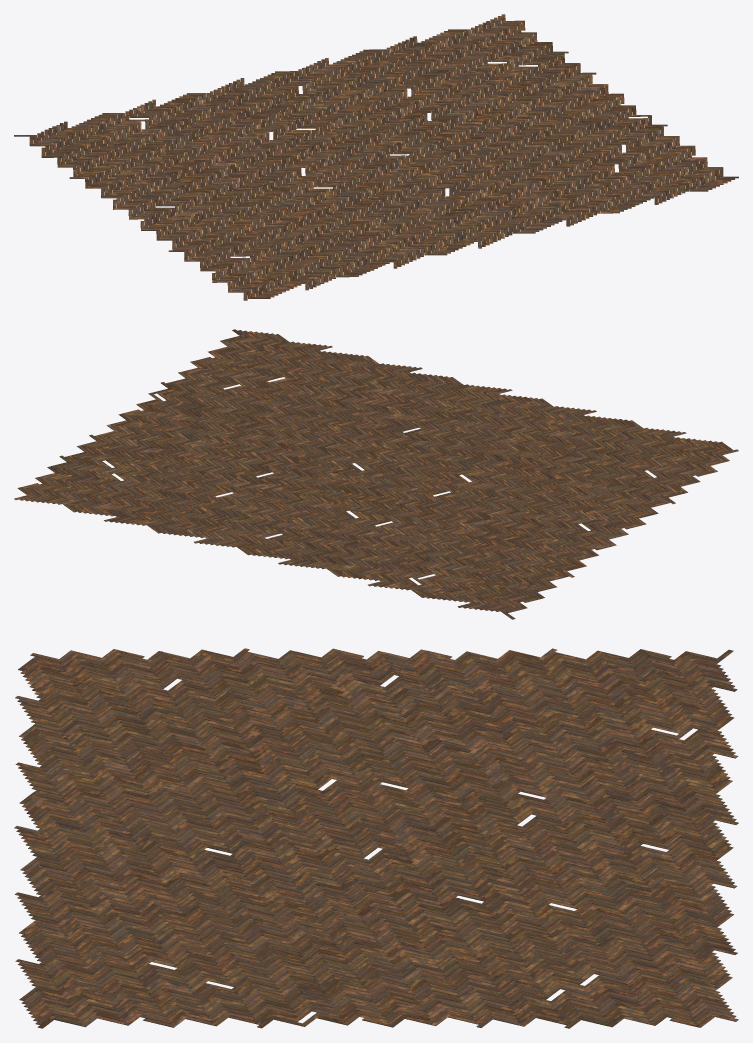
File: herringbone_blocks.glb
The picture shows the model from 3 angles, top to bottom: view 1: azimuth 30°, elevation 25°; view 2: azimuth 150°, elevation 25°; view 3: azimuth 270°, elevation 25°; orthographic projection. The views are drawn at different scales.
Parts seen in each view (by area): view 1: SalvagedParquet; view 2: SalvagedParquet; view 3: SalvagedParquet.
Boxes of the visible parts, <box> form: SalvagedParquet: <box>14,14,738,300</box>; SalvagedParquet: <box>14,329,738,619</box>; SalvagedParquet: <box>14,648,738,1028</box>.
Size of the model in its own units: 20.34 by 0.0179 by 16.38.
1 material, 1 textured.
